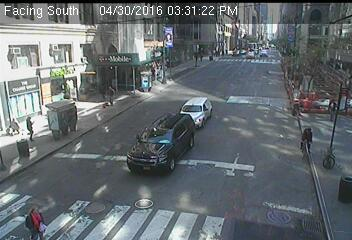neg: (135, 121, 162, 158), (47, 87, 73, 122), (135, 178, 160, 212), (315, 170, 339, 202), (295, 125, 318, 156), (240, 183, 259, 209), (189, 41, 206, 65), (203, 97, 220, 120), (135, 48, 151, 69), (258, 29, 273, 49), (270, 203, 284, 221)
pos: (20, 202, 46, 236), (19, 114, 39, 140), (103, 85, 119, 106)
